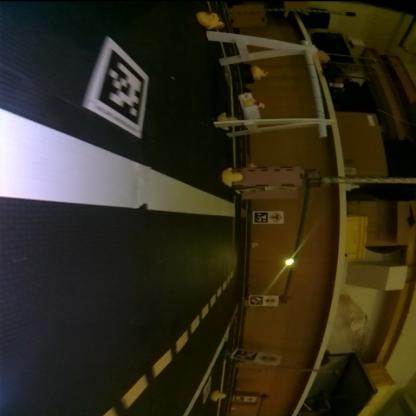Duckie: (223, 168, 244, 186), (220, 114, 238, 130), (244, 98, 266, 109), (198, 12, 218, 24), (252, 66, 270, 78), (207, 20, 225, 29), (213, 390, 226, 400), (251, 241, 259, 247)
Intersection sign: (270, 211, 284, 223)
QR code: (85, 37, 149, 137), (236, 349, 255, 361), (254, 212, 269, 221), (252, 296, 263, 305)
Signal sign: (260, 354, 278, 362), (266, 297, 278, 305)
Traffic light: (286, 258, 294, 266)
